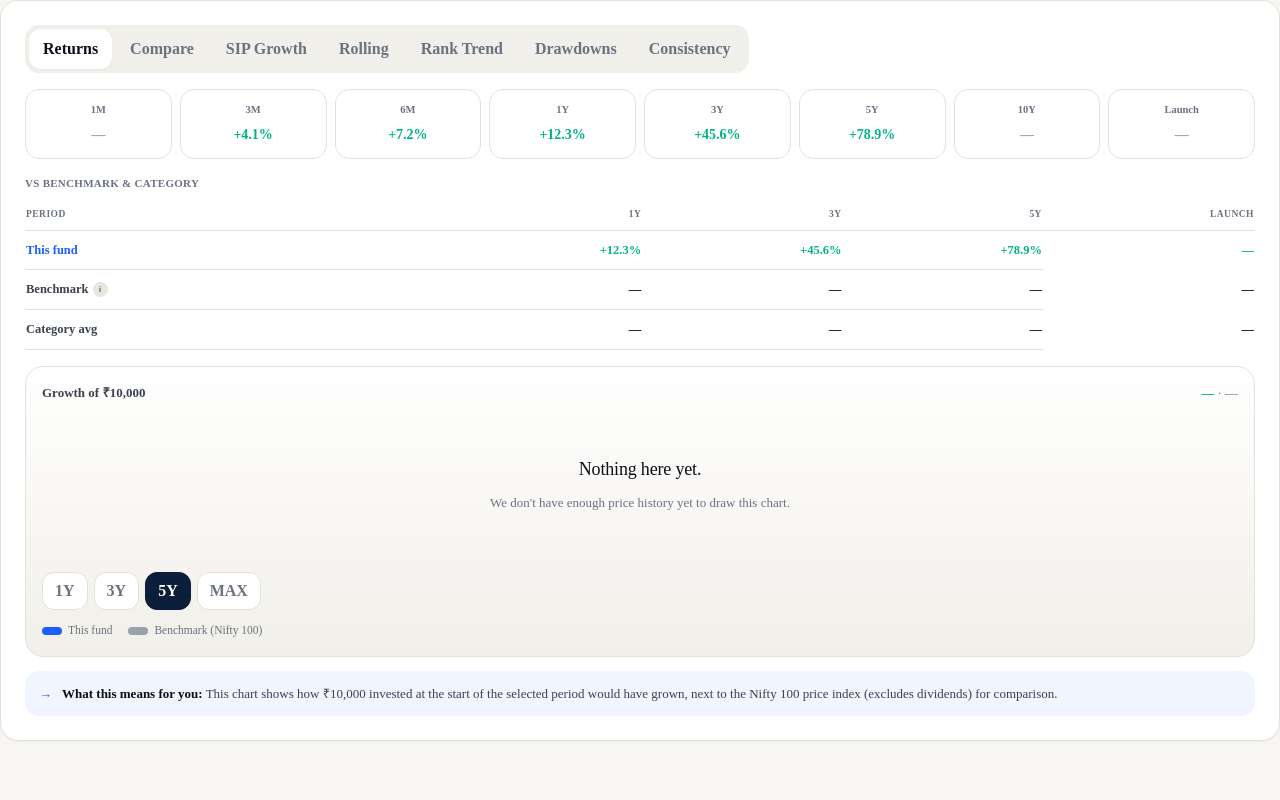
Test: Compare tab (Phase 4c pt4) — fund vs benchmark vs category › renders the category reason line — never blank — when the category line is omitted
Click the tab "Compare" at (162, 49), box [116,29,208,69]
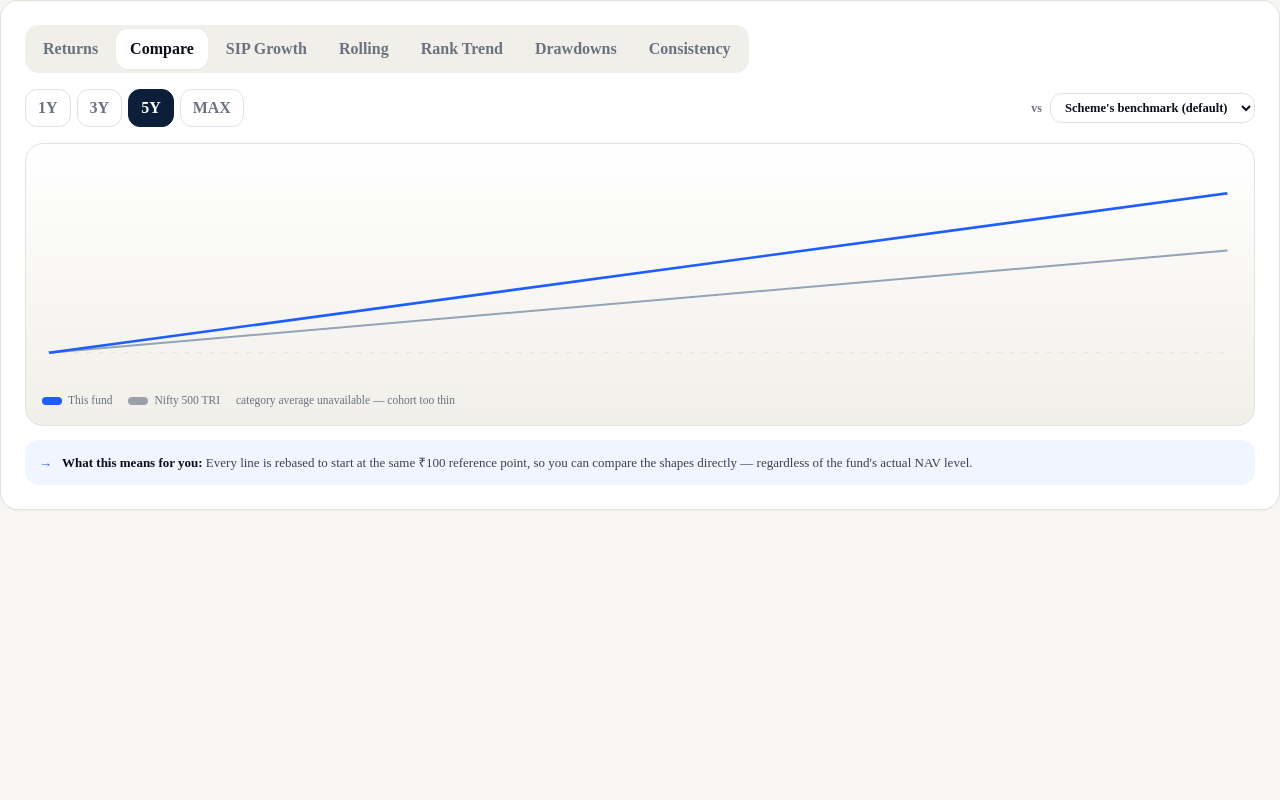
Result: the text "category average unavailable — cohort too thin" is shown at [236,392,455,409]
